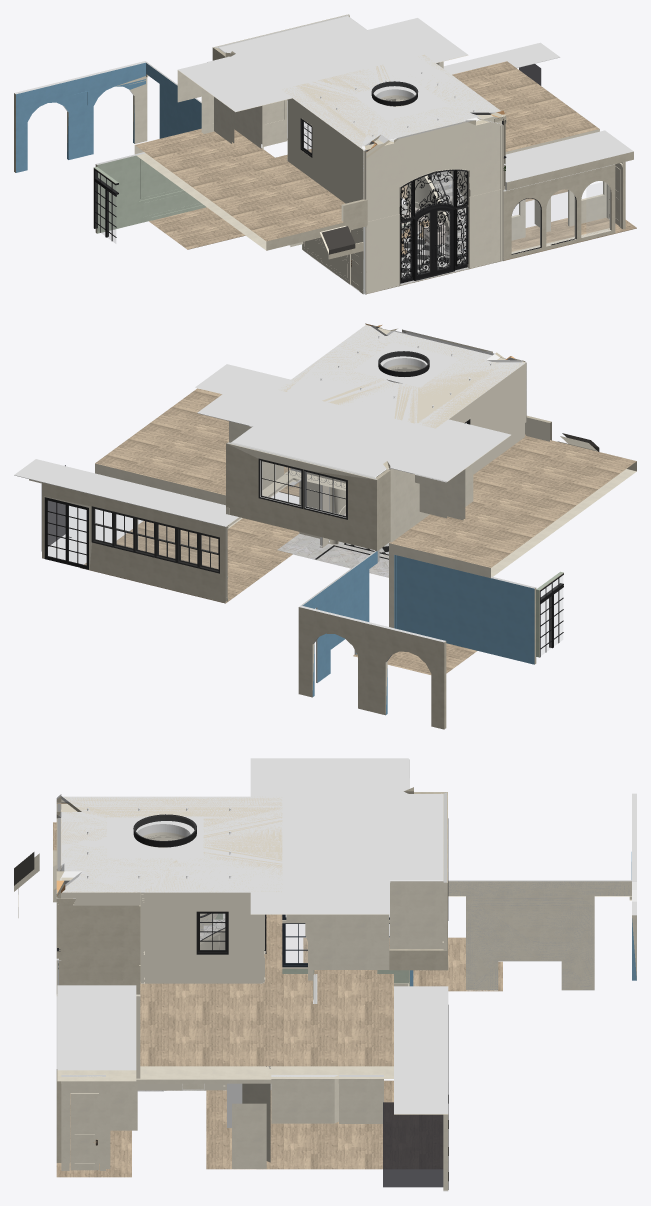
The model's file is entry-1187b9082c94.glb.
The picture shows the model from 3 angles, top to bottom: view 1: azimuth 30°, elevation 25°; view 2: azimuth 150°, elevation 25°; view 3: azimuth 270°, elevation 25°; orthographic projection. The views are drawn at different scales.
Visible parts, largest first — view 1: entry-look-2575515a05775d9e, entry-look-9d91b47435c6fb33, entry-9d91b47435c6fb33, entry-4edf3a9420c06709, entry-look-969b861f9850351e, entry-9ca48b730e5de4b2, entry-look-b19b106fc304963c, entry-746250f96522f643, entry-look-dbd60ee5c3733ed6, entry-e8793759323e04f0, entry-look-c9e78b9ec1bb39cd, entry-785988ccf932ddd5 (+34 smaller); view 2: entry-look-2575515a05775d9e, entry-look-9d91b47435c6fb33, entry-look-b19b106fc304963c, entry-9d91b47435c6fb33, entry-look-969b861f9850351e, entry-look-245f595ae2832e16, entry-look-3b0077416469e01b, entry-look-bfb9fa537cd11d1d, entry-e8793759323e04f0, entry-look-9a0e9ee9b2a451d7, entry-746250f96522f643, entry-look-3e6709f91b43c3bf (+19 smaller); view 3: entry-look-2575515a05775d9e, entry-look-9d91b47435c6fb33, entry-9d91b47435c6fb33, entry-look-3e6709f91b43c3bf, entry-look-3b0077416469e01b, entry-c51ecd664a3b22a3, entry-e8793759323e04f0, entry-look-dbd60ee5c3733ed6, entry-look-9a0e9ee9b2a451d7, entry-62353aa10fc57f23, entry-look-cbd4bf73d9724a66, entry-look-55ff1dfd7b659ec1 (+24 smaller).
Part boxes in pixels (x1,y1,x2,y2): entry-look-2575515a05775d9e: [134, 61, 599, 250]; entry-look-9d91b47435c6fb33: [178, 16, 468, 112]; entry-9d91b47435c6fb33: [281, 54, 500, 149]; entry-4edf3a9420c06709: [365, 120, 503, 221]; entry-look-969b861f9850351e: [14, 61, 147, 172]; entry-9ca48b730e5de4b2: [365, 189, 503, 293]; entry-look-b19b106fc304963c: [95, 152, 202, 233]; entry-746250f96522f643: [287, 98, 361, 203]; entry-look-dbd60ee5c3733ed6: [505, 130, 633, 190]; entry-e8793759323e04f0: [282, 54, 499, 149]; entry-look-c9e78b9ec1bb39cd: [503, 164, 615, 260]; entry-785988ccf932ddd5: [366, 118, 503, 220]; entry-look-2575515a05775d9e: [95, 388, 636, 578]; entry-look-9d91b47435c6fb33: [197, 371, 510, 481]; entry-look-b19b106fc304963c: [397, 555, 536, 664]; entry-9d91b47435c6fb33: [277, 325, 525, 427]; entry-look-969b861f9850351e: [298, 605, 446, 729]; entry-look-245f595ae2832e16: [226, 442, 377, 551]; entry-look-3b0077416469e01b: [80, 518, 476, 674]; entry-look-bfb9fa537cd11d1d: [42, 482, 227, 602]; entry-e8793759323e04f0: [281, 325, 525, 428]; entry-look-9a0e9ee9b2a451d7: [14, 459, 238, 526]; entry-746250f96522f643: [449, 364, 524, 474]; entry-look-3e6709f91b43c3bf: [302, 551, 377, 682]; entry-look-2575515a05775d9e: [53, 822, 393, 1078]; entry-look-9d91b47435c6fb33: [250, 758, 442, 914]; entry-9d91b47435c6fb33: [61, 796, 282, 892]; entry-look-3e6709f91b43c3bf: [448, 880, 631, 989]; entry-look-3b0077416469e01b: [206, 937, 502, 1169]; entry-c51ecd664a3b22a3: [145, 892, 264, 983]; entry-e8793759323e04f0: [58, 794, 282, 891]; entry-look-dbd60ee5c3733ed6: [57, 985, 136, 1081]; entry-look-9a0e9ee9b2a451d7: [394, 986, 448, 1114]; entry-62353aa10fc57f23: [71, 892, 140, 996]; entry-look-cbd4bf73d9724a66: [383, 1102, 443, 1187]; entry-look-55ff1dfd7b659ec1: [448, 880, 631, 990].
Size of the model in its own units: 21.07 by 7.02 by 18.
Materials: 67 (13 with a texture image).
